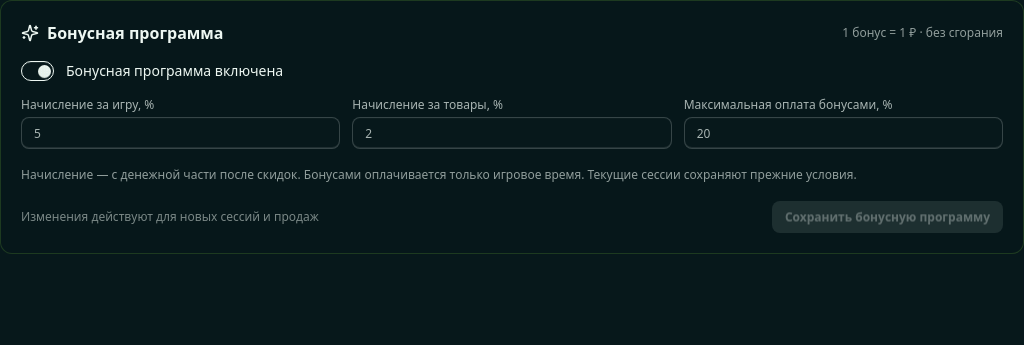
Test: Настройка бонусной программы › повторяет неудачное сохранение с прежним ключом и не показывает ложный успех
The image size is (1024, 345).
Step 1. Replace the text in the field labelled "Начисление за игру, %" with "6" → (181, 133), box [21,117,340,149]
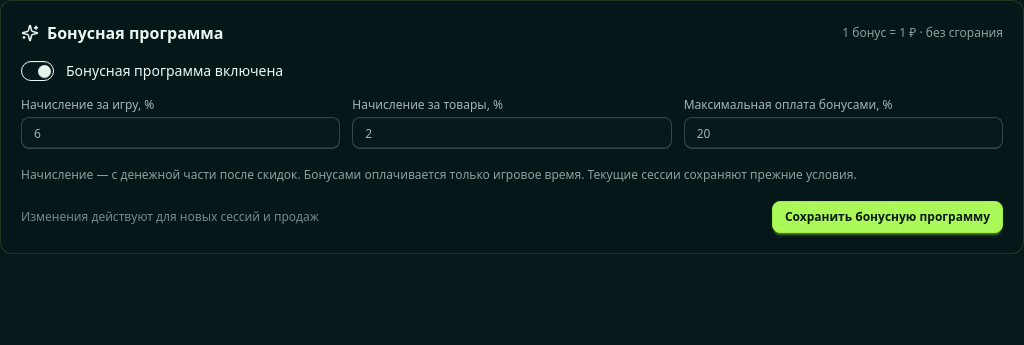
Step 2. Click the button "Сохранить бонусную программу" → (887, 216), box [772,200,1003,232]
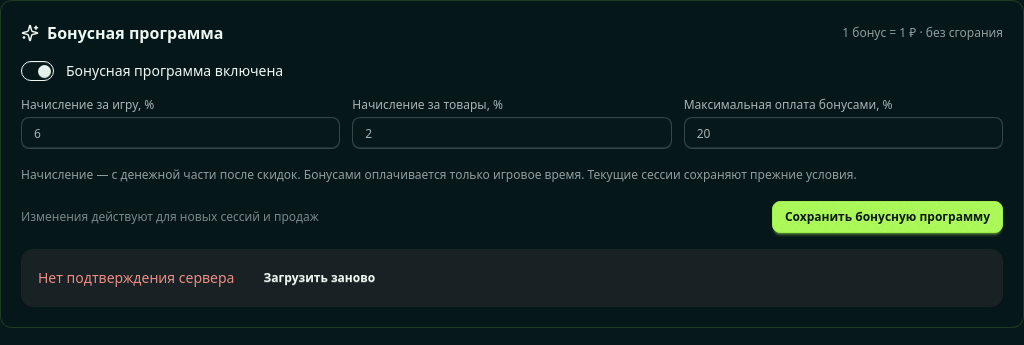
Expected: the text "Настройки бонусов сохранены" is not shown
Now the message shows "Нет подтверждения сервера", box [38,268,234,286]
Step 3. Click the button "Сохранить бонусную программу" → (887, 216), box [772,200,1003,232]
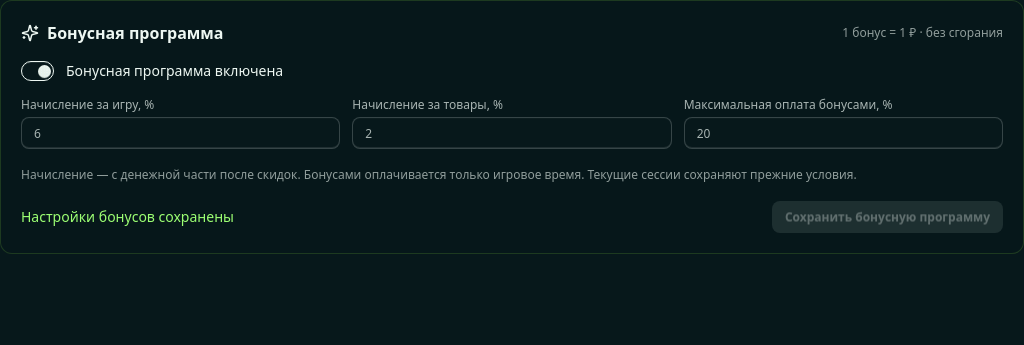
Now the text "Настройки бонусов сохранены" is shown, box [21,206,234,226]
